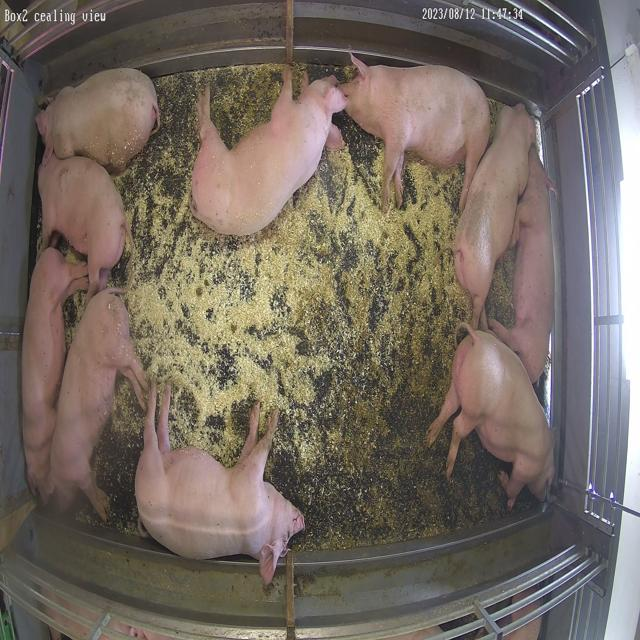Dirt: (267, 297, 507, 551), (189, 64, 284, 148)
Pig: (135, 385, 305, 586), (192, 66, 347, 236), (427, 324, 556, 510), (342, 55, 490, 210), (50, 289, 147, 522), (456, 104, 536, 328), (21, 247, 87, 502), (490, 148, 555, 382), (38, 149, 128, 296), (36, 68, 159, 174)
